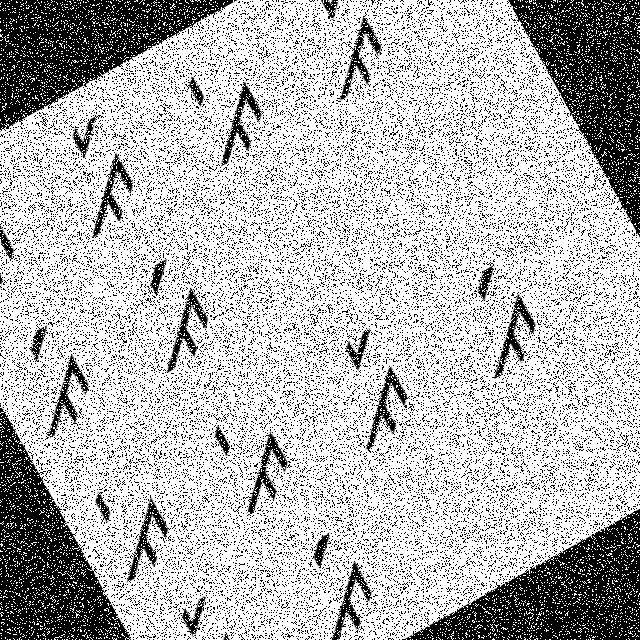kang: (101, 240, 237, 386), (268, 507, 405, 639), (437, 248, 561, 390), (0, 310, 111, 452)
kar: (36, 102, 164, 244), (312, 312, 436, 457), (279, 0, 408, 113), (144, 582, 273, 639)
ke: (190, 390, 323, 530), (164, 41, 290, 179), (73, 458, 198, 594), (0, 171, 47, 318)
